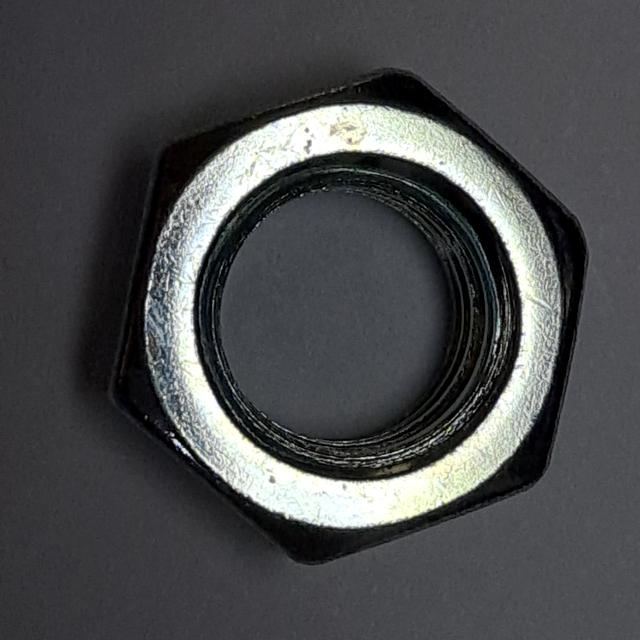Excellent: (90, 51, 599, 581)
